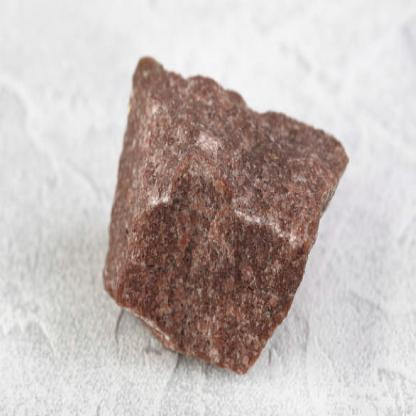Metamorphic_Quartize: (97, 38, 356, 376)
